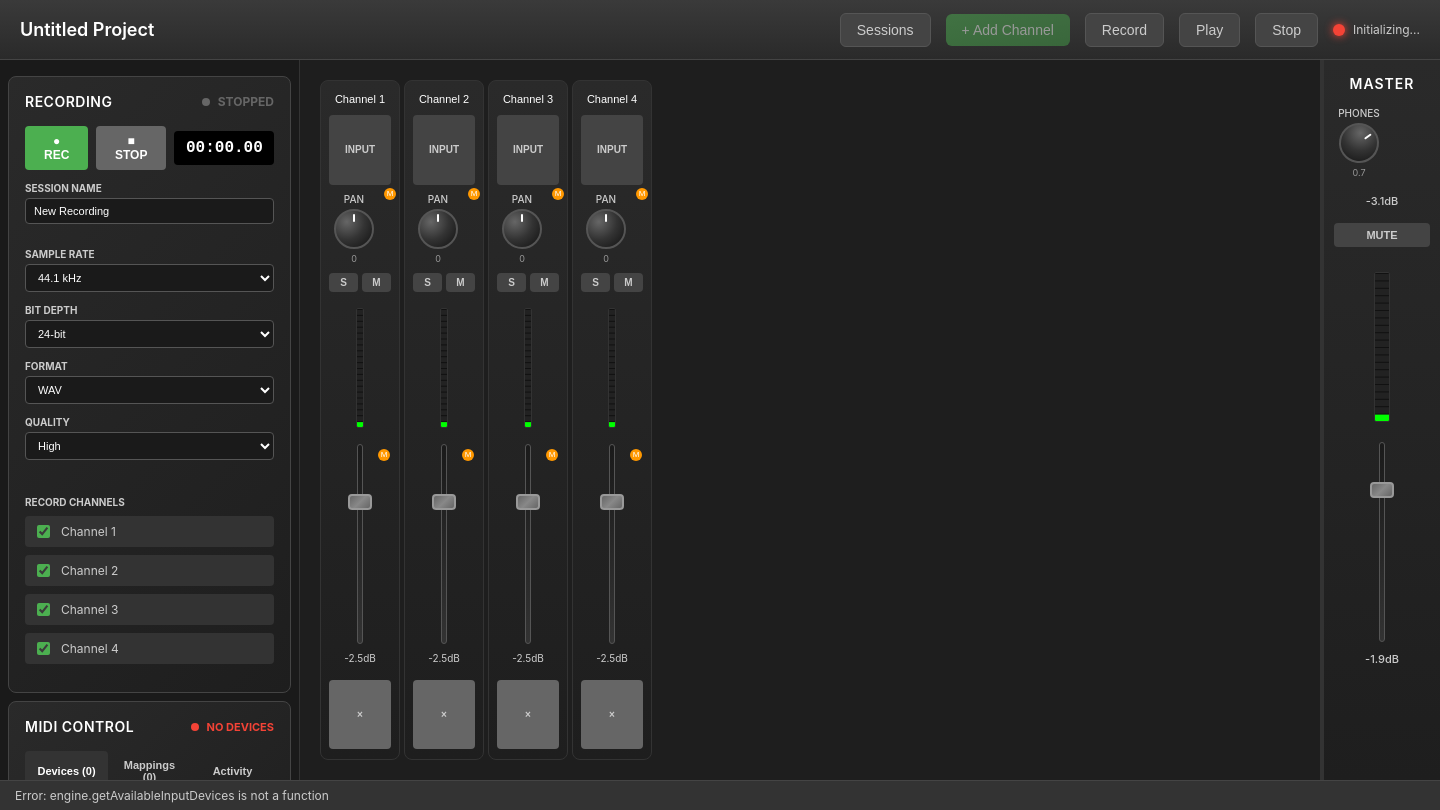
it: App Integration Tests › removes channel when remove button is clicked
Check: the 1st field showing "Channel 1" is shown, box [329, 91, 391, 107]
Find and click the first remove button (×)
Click the 1st button "×". click: (360, 714)
box: [329, 680, 391, 749]
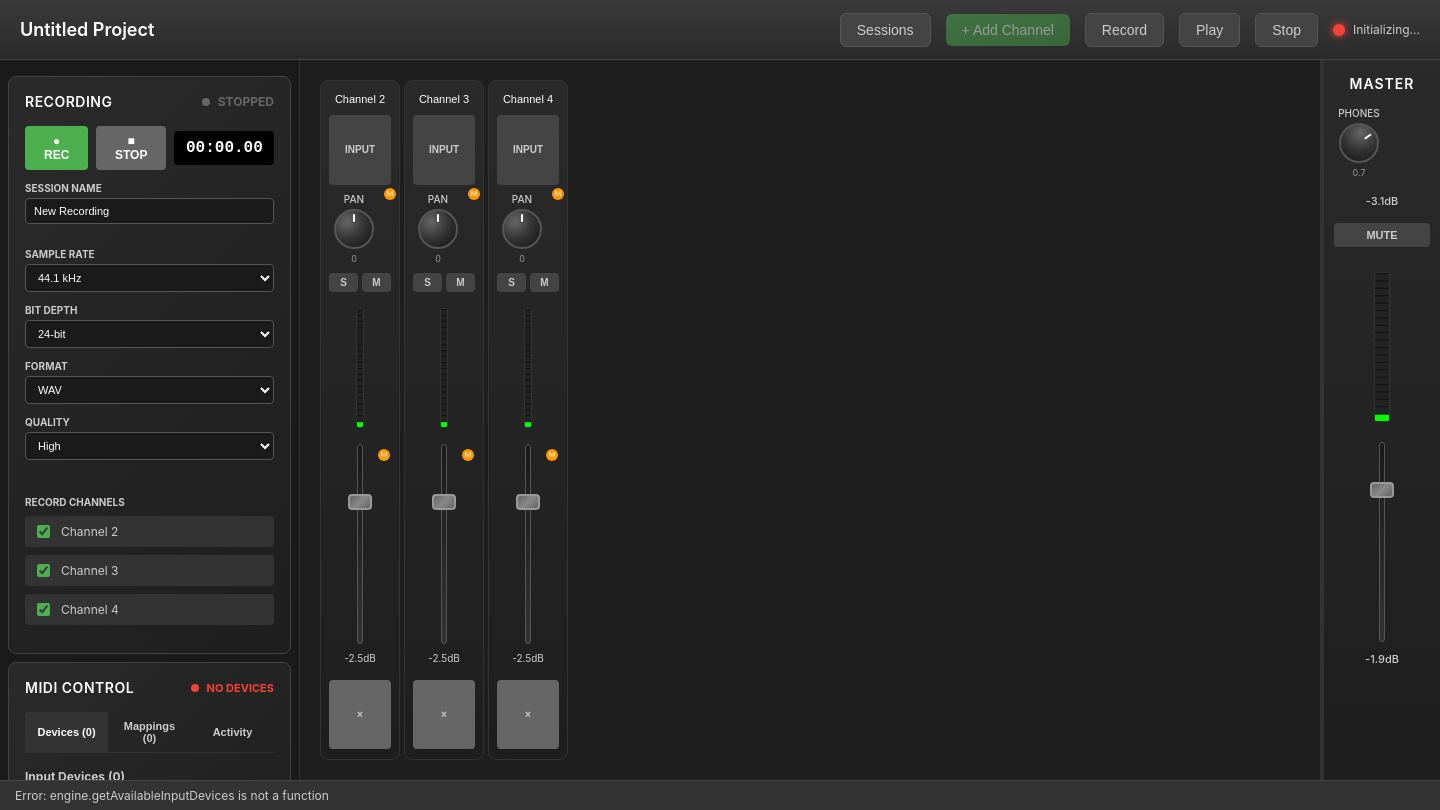
Check: the text showing "Channel 1" is gone
